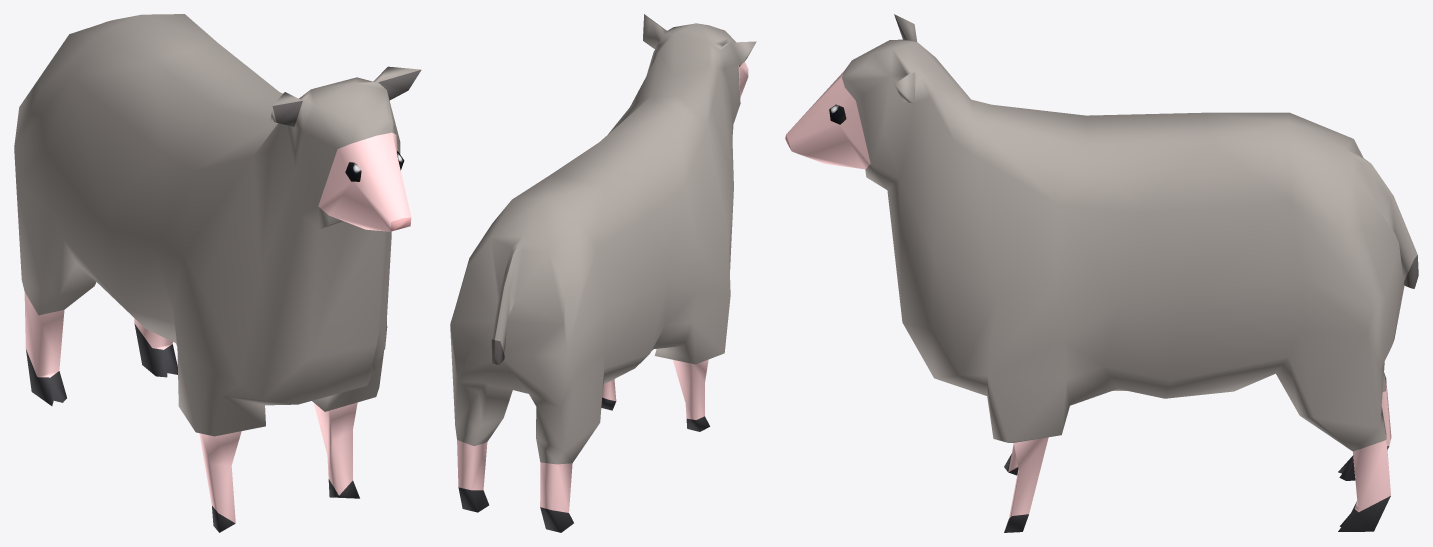
The model's file is 6f4bde24-a33c-43d5-bd7d-a46639200303.glb.
The picture shows the model from 3 angles, left to right: view 1: azimuth 30°, elevation 25°; view 2: azimuth 150°, elevation 25°; view 3: azimuth 270°, elevation 25°; orthographic projection. The views are drawn at different scales.
Parts seen in each view (by area): view 1: Lamb; view 2: Lamb; view 3: Lamb.
Boxes of the visible parts, box(x1,y1,x2,y2) form: Lamb: box(14, 14, 421, 532); Lamb: box(450, 14, 756, 532); Lamb: box(785, 14, 1418, 532).
Size of what is drawn, in the model's own units: 0.5627 by 1.39 by 1.75.
1 material, 1 textured.
